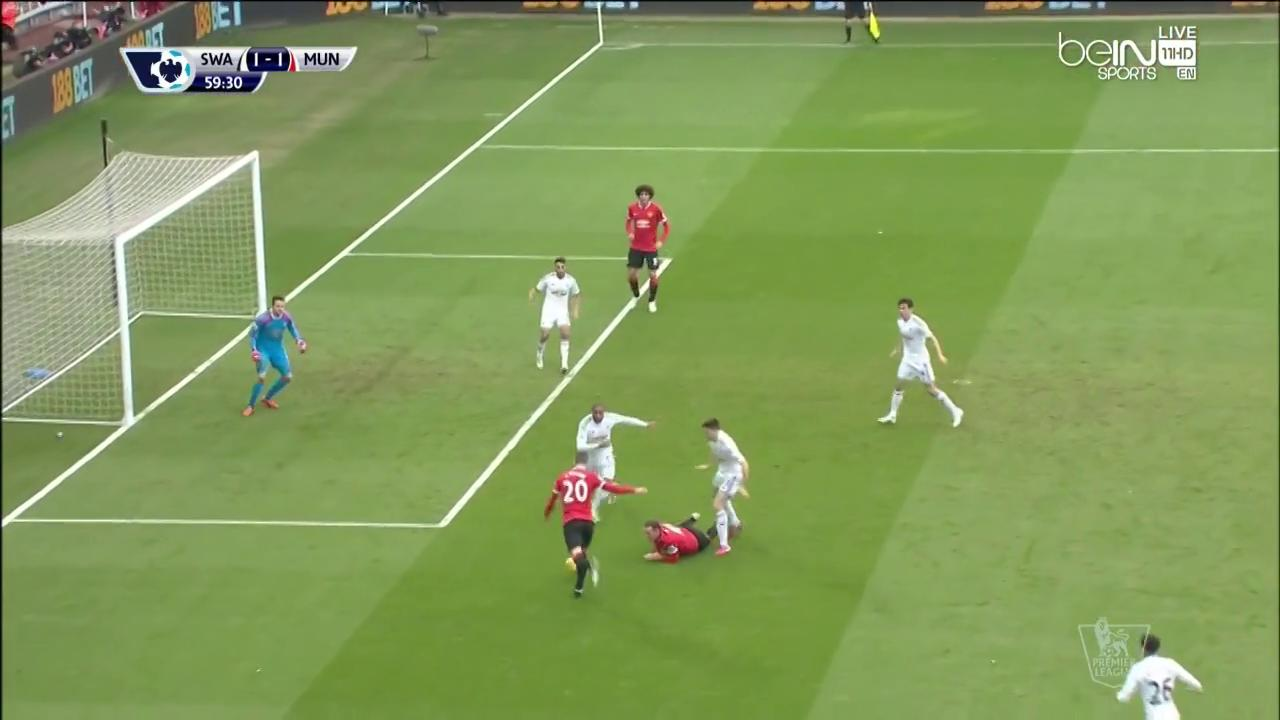football: (565, 557, 576, 570)
